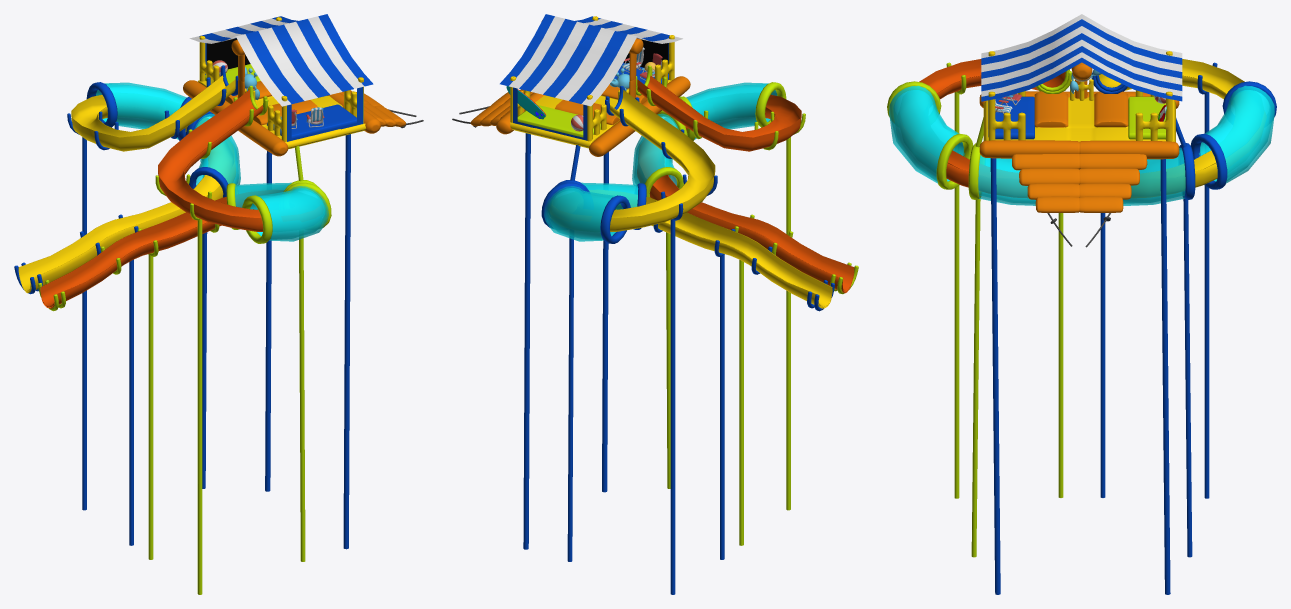
Rendered from VanillaPartTutorial.fbx.
The picture shows the model from 3 angles, left to right: view 1: azimuth 30°, elevation 25°; view 2: azimuth 150°, elevation 25°; view 3: azimuth 270°, elevation 25°; orthographic projection. The views are drawn at different scales.
Parts seen in each view (by area): view 1: pTorus26 (×2), pPlane14, polySurface3018 (×2), polySurface3019 (×2), pCylinder88 (×2), pCylinder89 (×2), pCylinder90 (×2), pCylinder92, polySurface3016 (×2), floor, pCylinder91, pTorus29 (×2) (+6 smaller); view 2: pTorus26 (×2), pPlane14, polySurface3018 (×2), polySurface3019 (×2), pCylinder88 (×2), pCylinder89 (×2), pCylinder90 (×2), pCylinder91, polySurface3016 (×2), floor, pCylinder92, pTorus29 (×2) (+4 smaller); view 3: pPlane14, polySurface3018 (×2), pTorus26 (×2), polySurface3019 (×2), floor, pCylinder88 (×2), pCylinder90 (×2), polySurface3016 (×2), pCylinder89 (×2), pCylinder95, pCylinder91, pCylinder92 (+11 smaller).
Boxes of the visible parts, box(x1,y1,x2,y2) form: pTorus26 (×2): box(18, 75, 283, 308); pPlane14: box(189, 14, 373, 106); polySurface3018 (×2): box(96, 82, 328, 241); polySurface3019 (×2): box(96, 84, 326, 239); pCylinder88 (×2): box(82, 137, 202, 594); pCylinder89 (×2): box(129, 253, 153, 559); pCylinder90 (×2): box(202, 175, 305, 561); pCylinder92: box(343, 134, 350, 549); polySurface3016 (×2): box(194, 113, 291, 207); floor: box(198, 80, 365, 149); pCylinder91: box(265, 151, 272, 491); pTorus29 (×2): box(86, 82, 272, 243); pTorus26 (×2): box(589, 75, 854, 308); pPlane14: box(500, 14, 682, 106); polySurface3018 (×2): box(544, 82, 776, 241); polySurface3019 (×2): box(546, 84, 777, 239); pCylinder88 (×2): box(670, 137, 790, 594); pCylinder89 (×2): box(720, 253, 743, 559); pCylinder90 (×2): box(567, 175, 670, 561); pCylinder91: box(523, 133, 530, 549); polySurface3016 (×2): box(581, 113, 678, 207); floor: box(510, 80, 671, 148); pCylinder92: box(602, 152, 608, 492); pTorus29 (×2): box(600, 82, 786, 243); pPlane14: box(981, 14, 1182, 101); polySurface3018 (×2): box(889, 85, 1274, 183); pTorus26 (×2): box(919, 59, 1244, 197); polySurface3019 (×2): box(889, 86, 1274, 181); floor: box(983, 91, 1175, 142); pCylinder88 (×2): box(954, 92, 1209, 498); pCylinder90 (×2): box(971, 199, 1192, 557); polySurface3016 (×2): box(978, 147, 1185, 205); pCylinder89 (×2): box(1058, 213, 1105, 497); pCylinder95: box(979, 140, 1179, 159); pCylinder91: box(1160, 159, 1170, 594); pCylinder92: box(990, 158, 1000, 594).
Size of the model in its own units: 6823 by 8491 by 5538.
